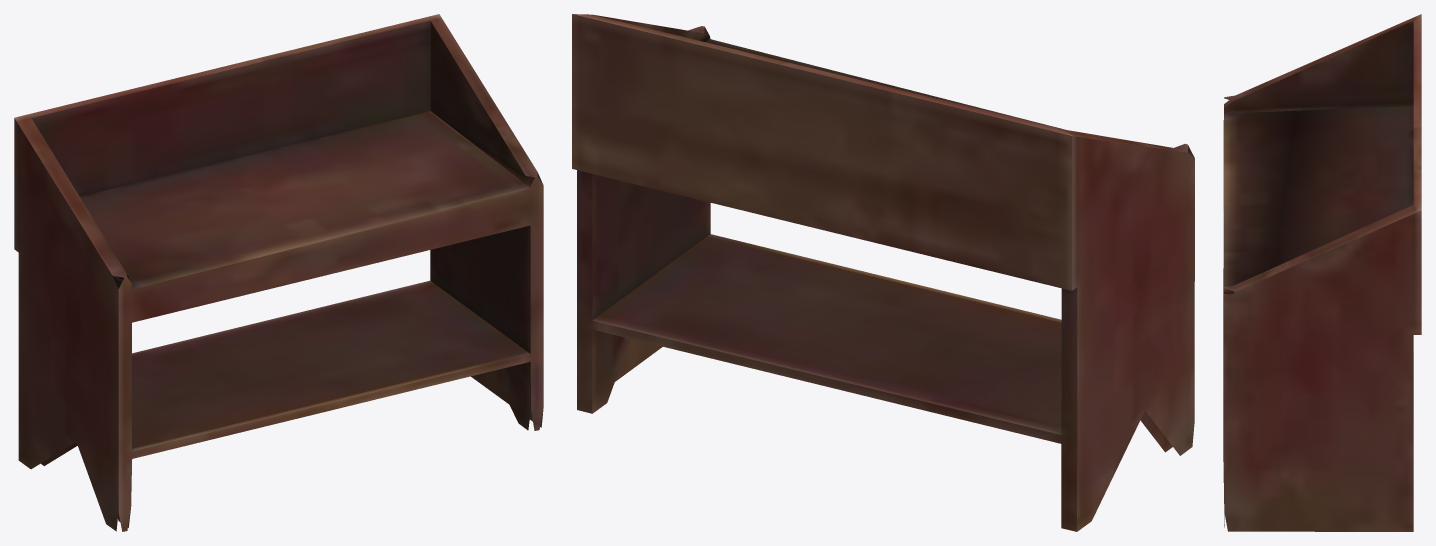
The model's file is banc_bois_lod2.glb.
3 views of the same model, side by side, from view 1: azimuth 30°, elevation 25°; view 2: azimuth 150°, elevation 25°; view 3: azimuth 270°, elevation 25° (orthographic). The views are drawn at different scales.
Parts seen in each view (by area): view 1: painted_wooden_bench; view 2: painted_wooden_bench; view 3: painted_wooden_bench.
Part boxes in pixels (x1,y1,x2,y2): painted_wooden_bench: (14,14,543,531); painted_wooden_bench: (572,14,1194,531); painted_wooden_bench: (1223,14,1421,531).
Bounding box in the file's own units: 1.16 × 0.8893 × 0.4965.
Materials: 1 (1 with a texture image).
